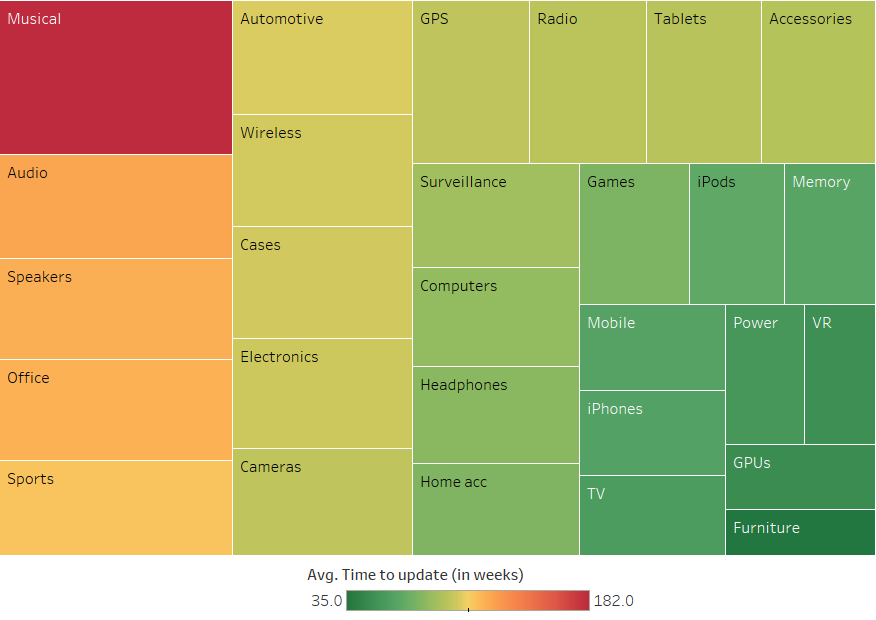

This screenshot's page, from the dashboard's own definition file:
{"tool":"tableau","page":{"name":"Dashboard 1","canvas":[1000,1000],"units":"permille","ordinal":0},"visuals":[{"type":"worksheet","title":"TT for p.update","mark":"Automatic","rows":["sub category 1"],"cols":["Time to update (in weeks)"],"box":[4.2,5.8,519.6,751.5]},{"type":"text","box":[9.7,18.6,980.7,962.8]},{"type":"worksheet","title":"TT for p.update_2","mark":"Automatic","box":[535.9,53.4,464.1,620.2]},{"type":"legend","title":"TT for p.update_2","param":"[federated.1vl33a51myhwji18jspvm1r1us8n].[avg:Time to update (in weeks):qk]","box":[699.5,679.4,174.4,102.2]},{"type":"filter","title":"TT for p.update","param":"[federated.1vl33a51myhwji18jspvm1r1us8n].[none:Availability:nk]","box":[54.9,773.5,126.7,205.6]},{"type":"text","box":[564.3,796.8,333.1,66.2]},{"type":"text","box":[277,832.8,245,104.5]},{"type":"text","box":[561.3,880.4,333.1,95.2]}]}

Visuals, with their boxes on the dashboard's canvas, which has no fixed pixel size, in thousandths of its width and height (x1, y1, x2, y2). These are canvas units, not pixel positions in the 876x620 screenshot, which may show the page scaled, cropped or inside an application window:
"TT for p.update" worksheet: {"left": 4, "top": 6, "right": 524, "bottom": 757}
text: {"left": 10, "top": 19, "right": 990, "bottom": 981}
"TT for p.update_2" worksheet: {"left": 536, "top": 53, "right": 1000, "bottom": 674}
"TT for p.update_2" legend: {"left": 700, "top": 679, "right": 874, "bottom": 782}
"TT for p.update" filter: {"left": 55, "top": 774, "right": 182, "bottom": 979}
text: {"left": 564, "top": 797, "right": 897, "bottom": 863}
text: {"left": 277, "top": 833, "right": 522, "bottom": 937}
text: {"left": 561, "top": 880, "right": 894, "bottom": 976}
